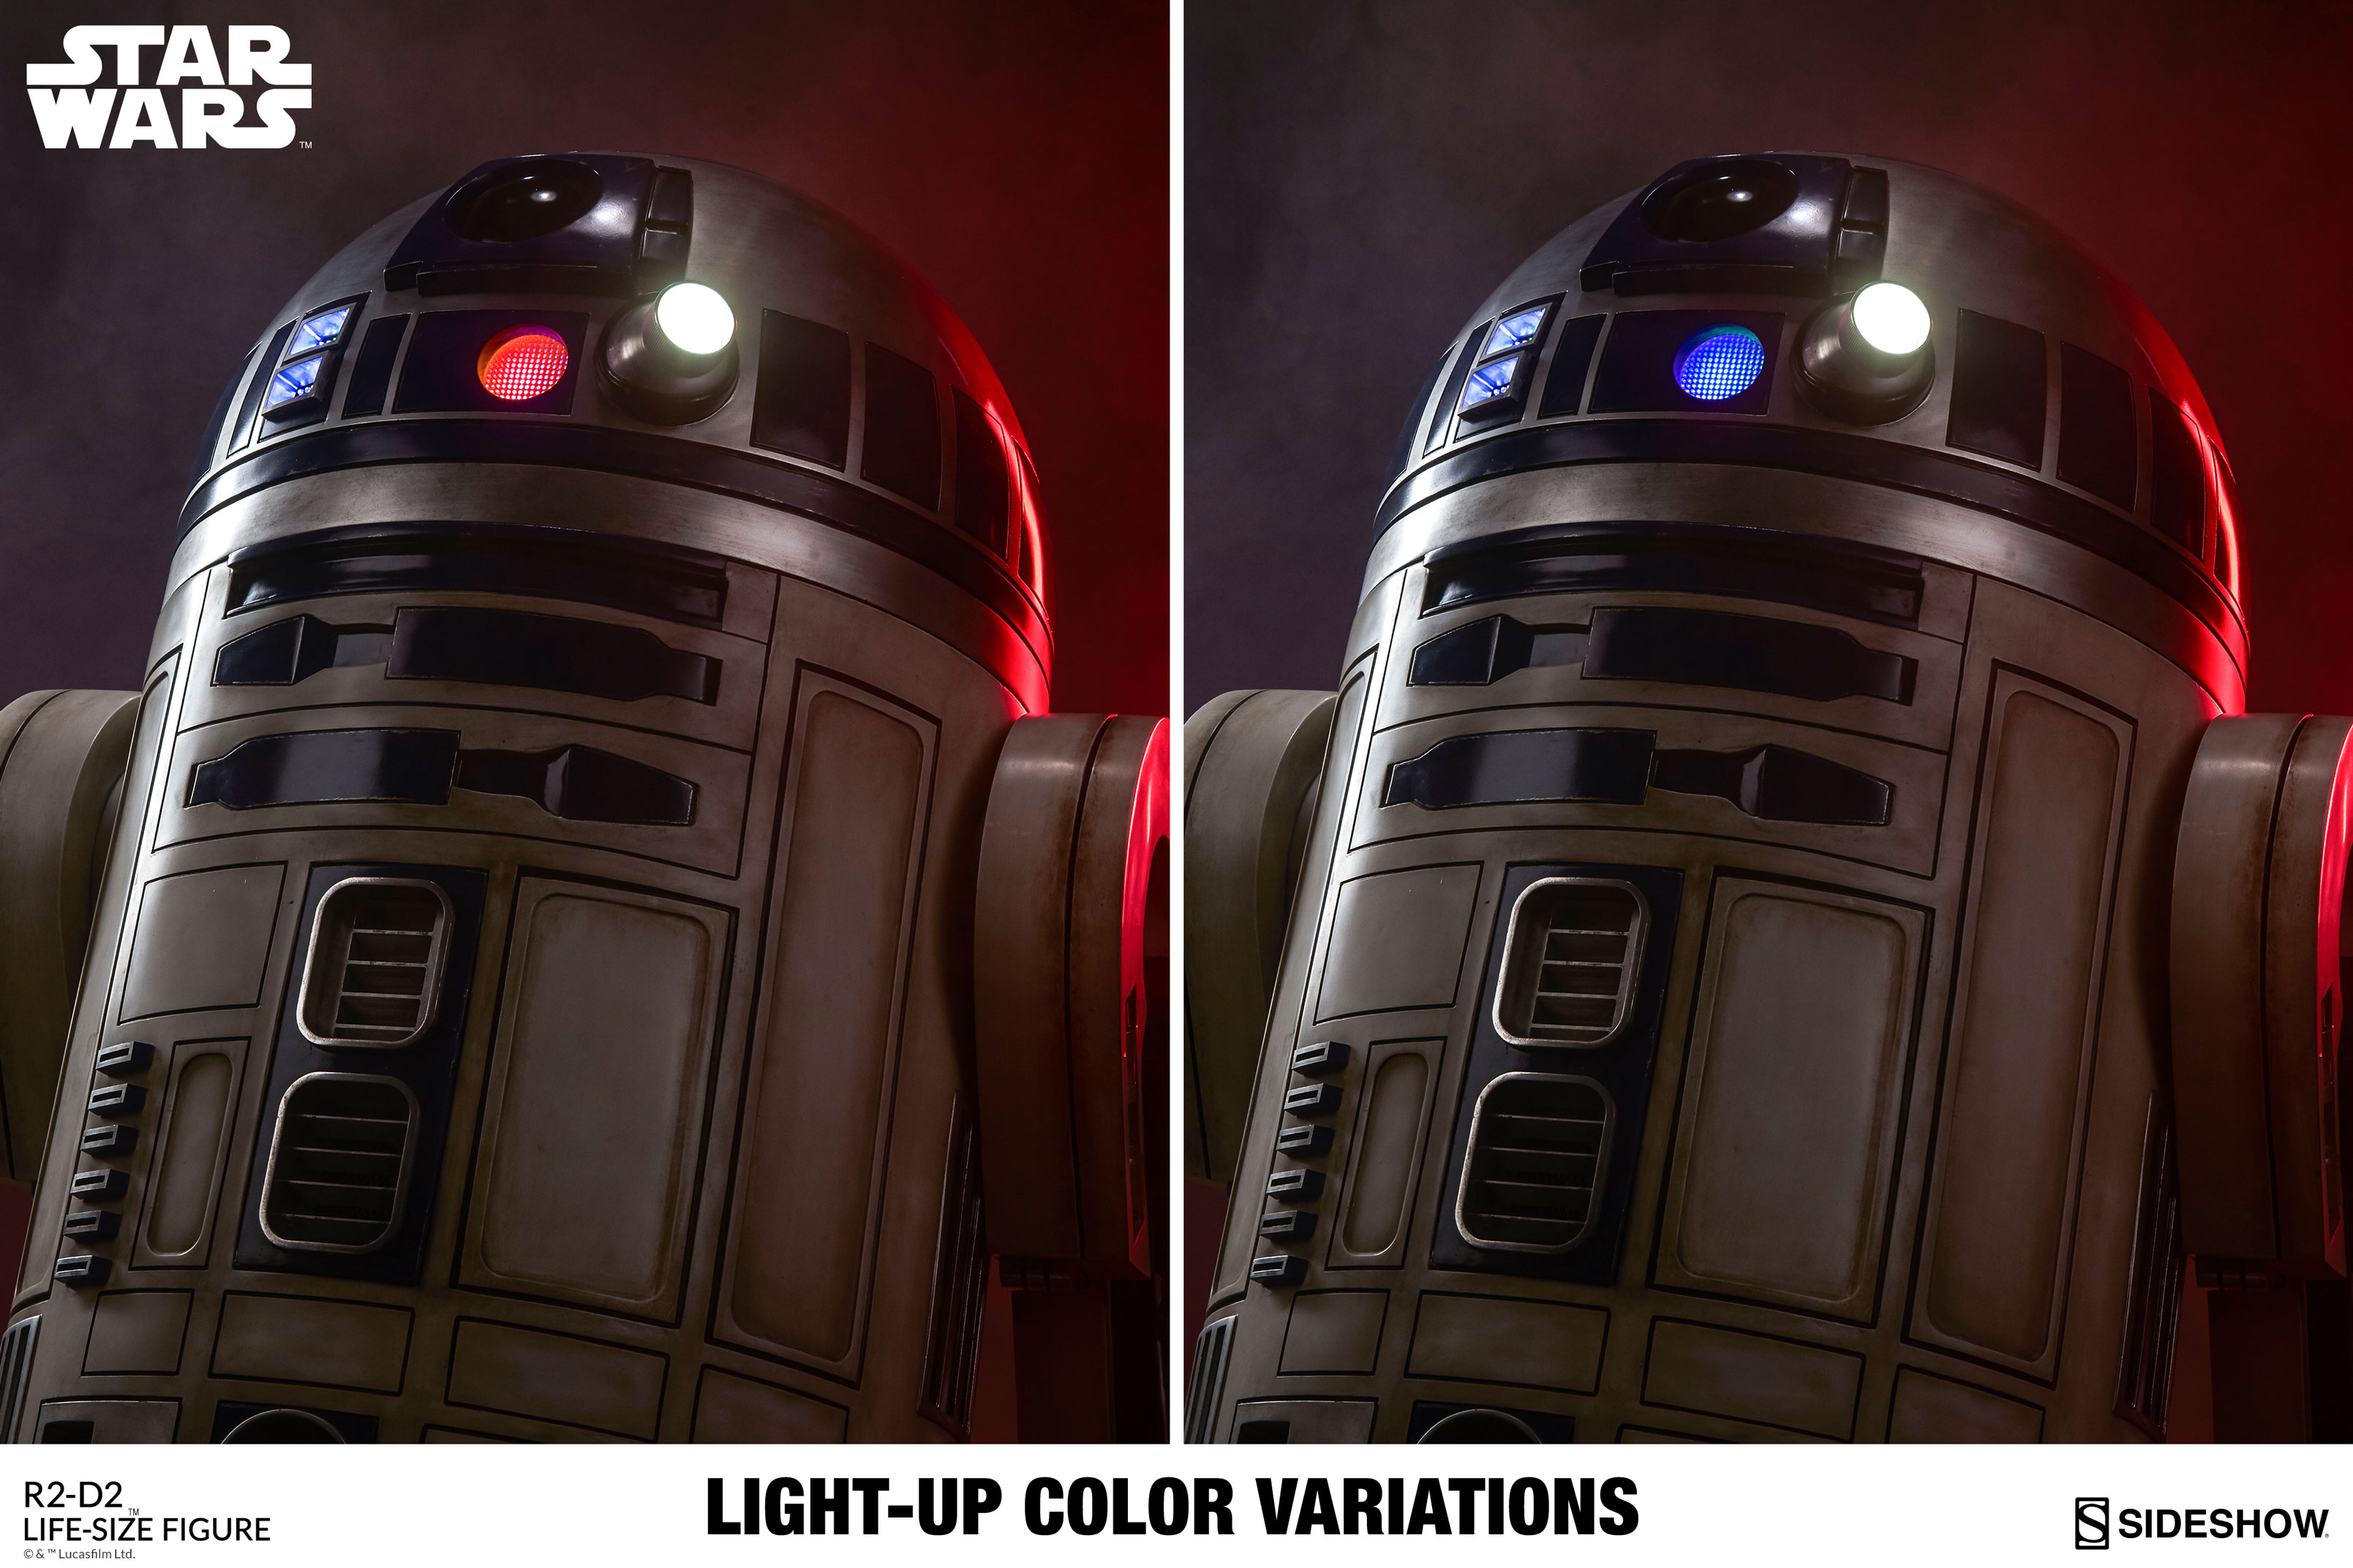r2d2: (1254, 154, 2318, 1437), (91, 147, 1146, 1426)
